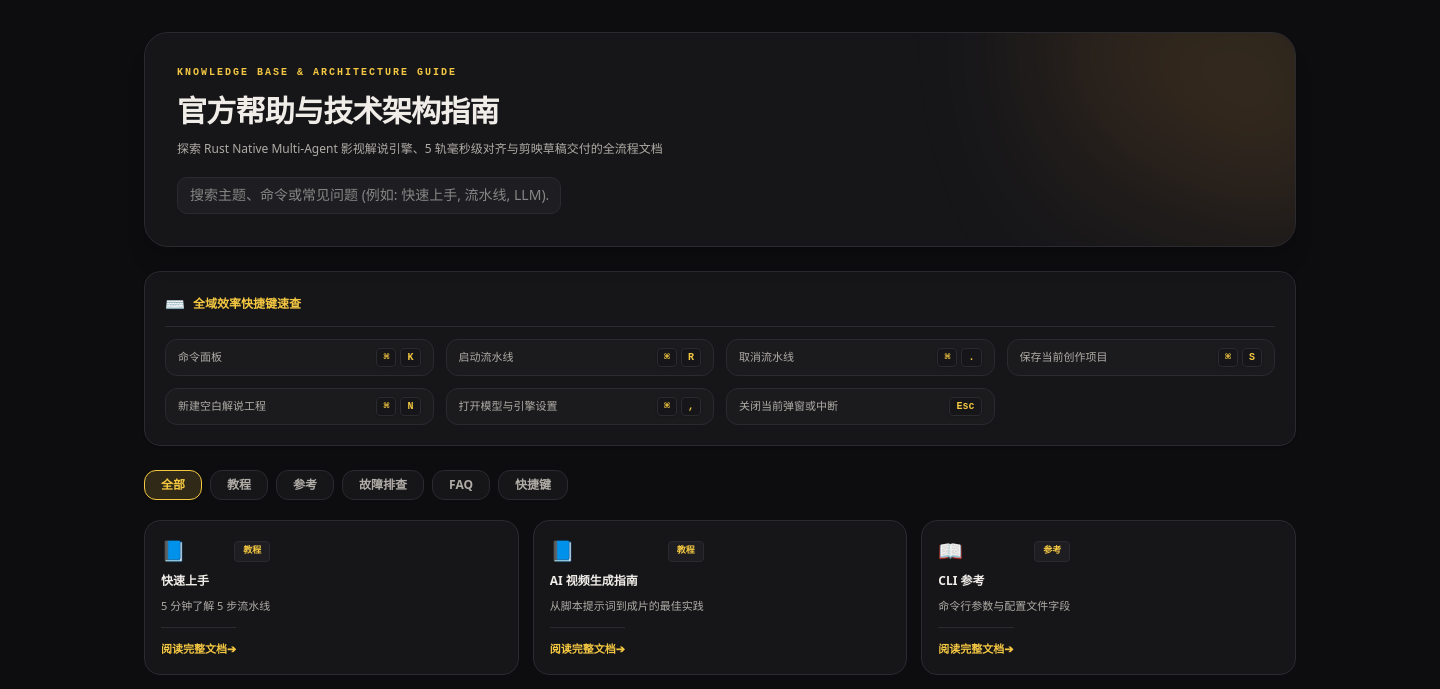
HelpPage › Esc 关闭详情 modal
Expected: the heading "快速上手" is shown, [161, 572, 209, 589]
Click the button "📘 教程 快速上手 5 分钟了解 5 步流水线 阅读完整文档 ➔".
click(252, 551)  # box [144, 520, 519, 675]
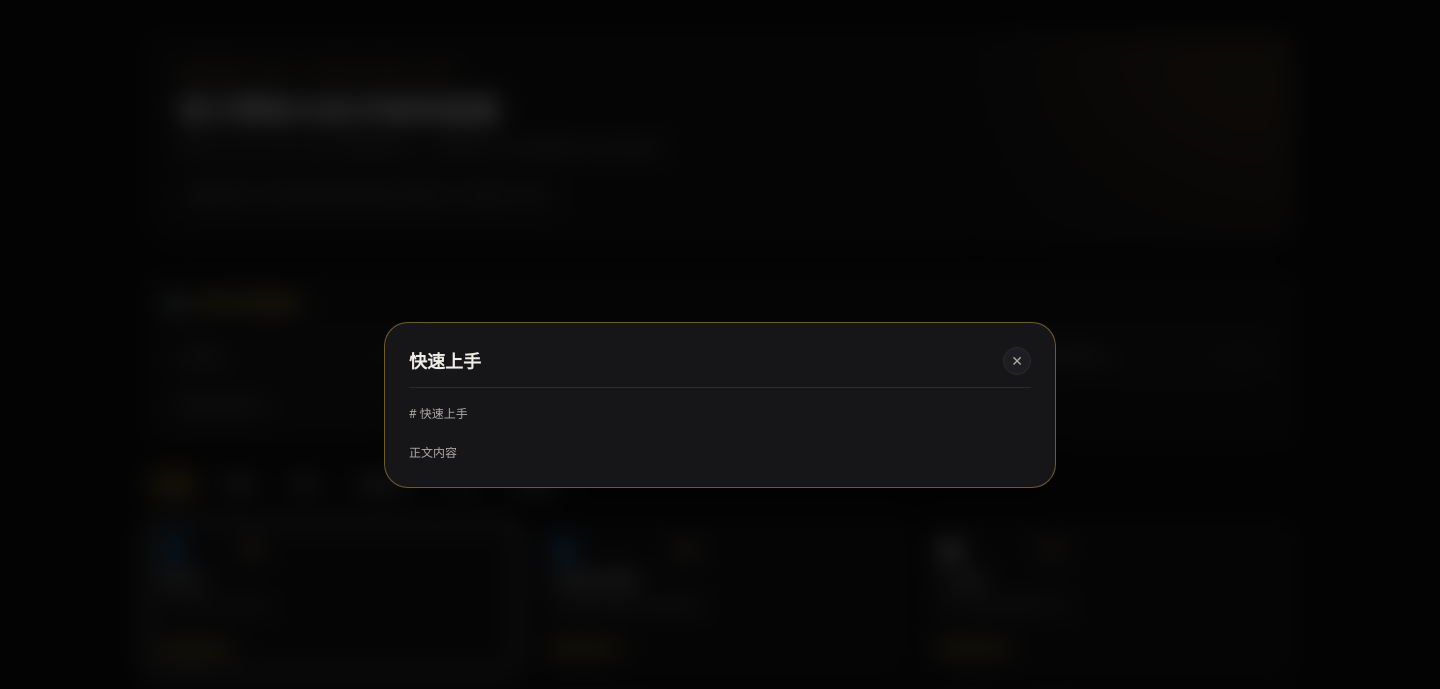
Expected: the text "# 快速上手 正文内容" is shown, [409, 405, 468, 461]
Press Escape
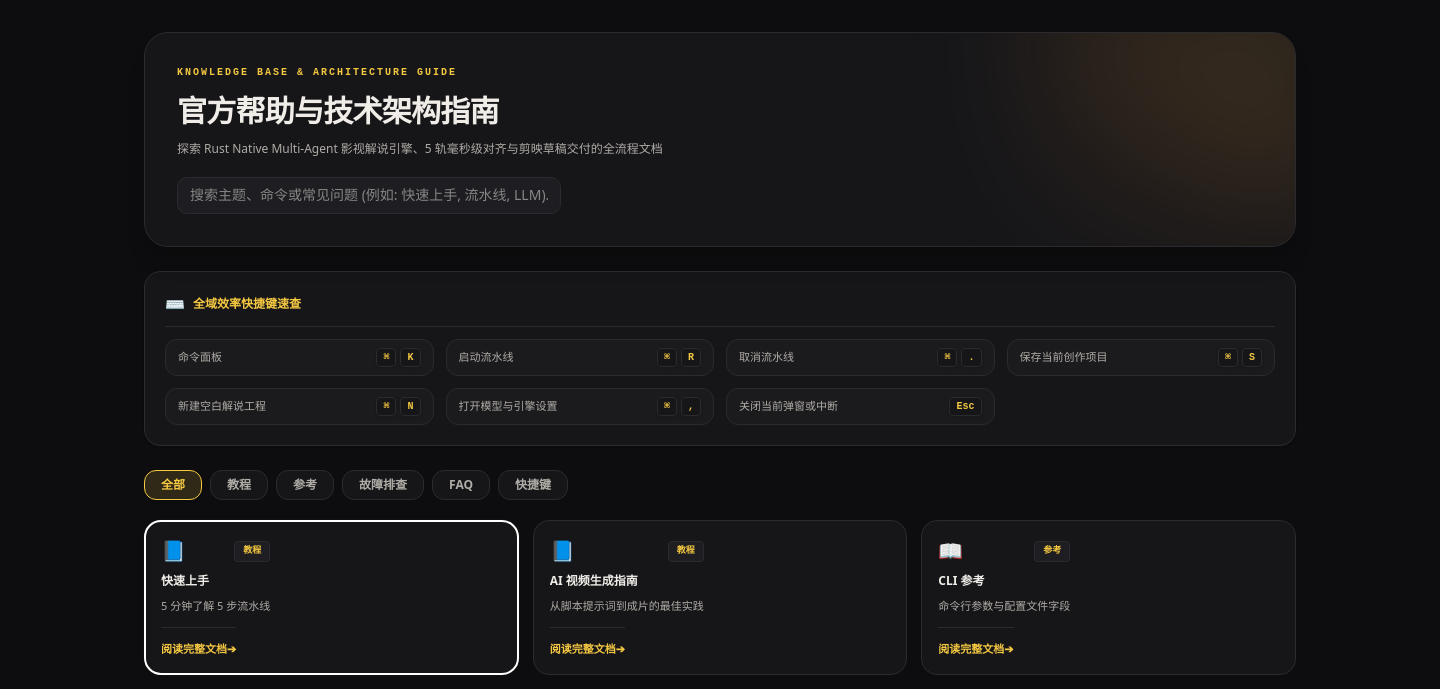
Expected: the text "# 快速上手" is gone
